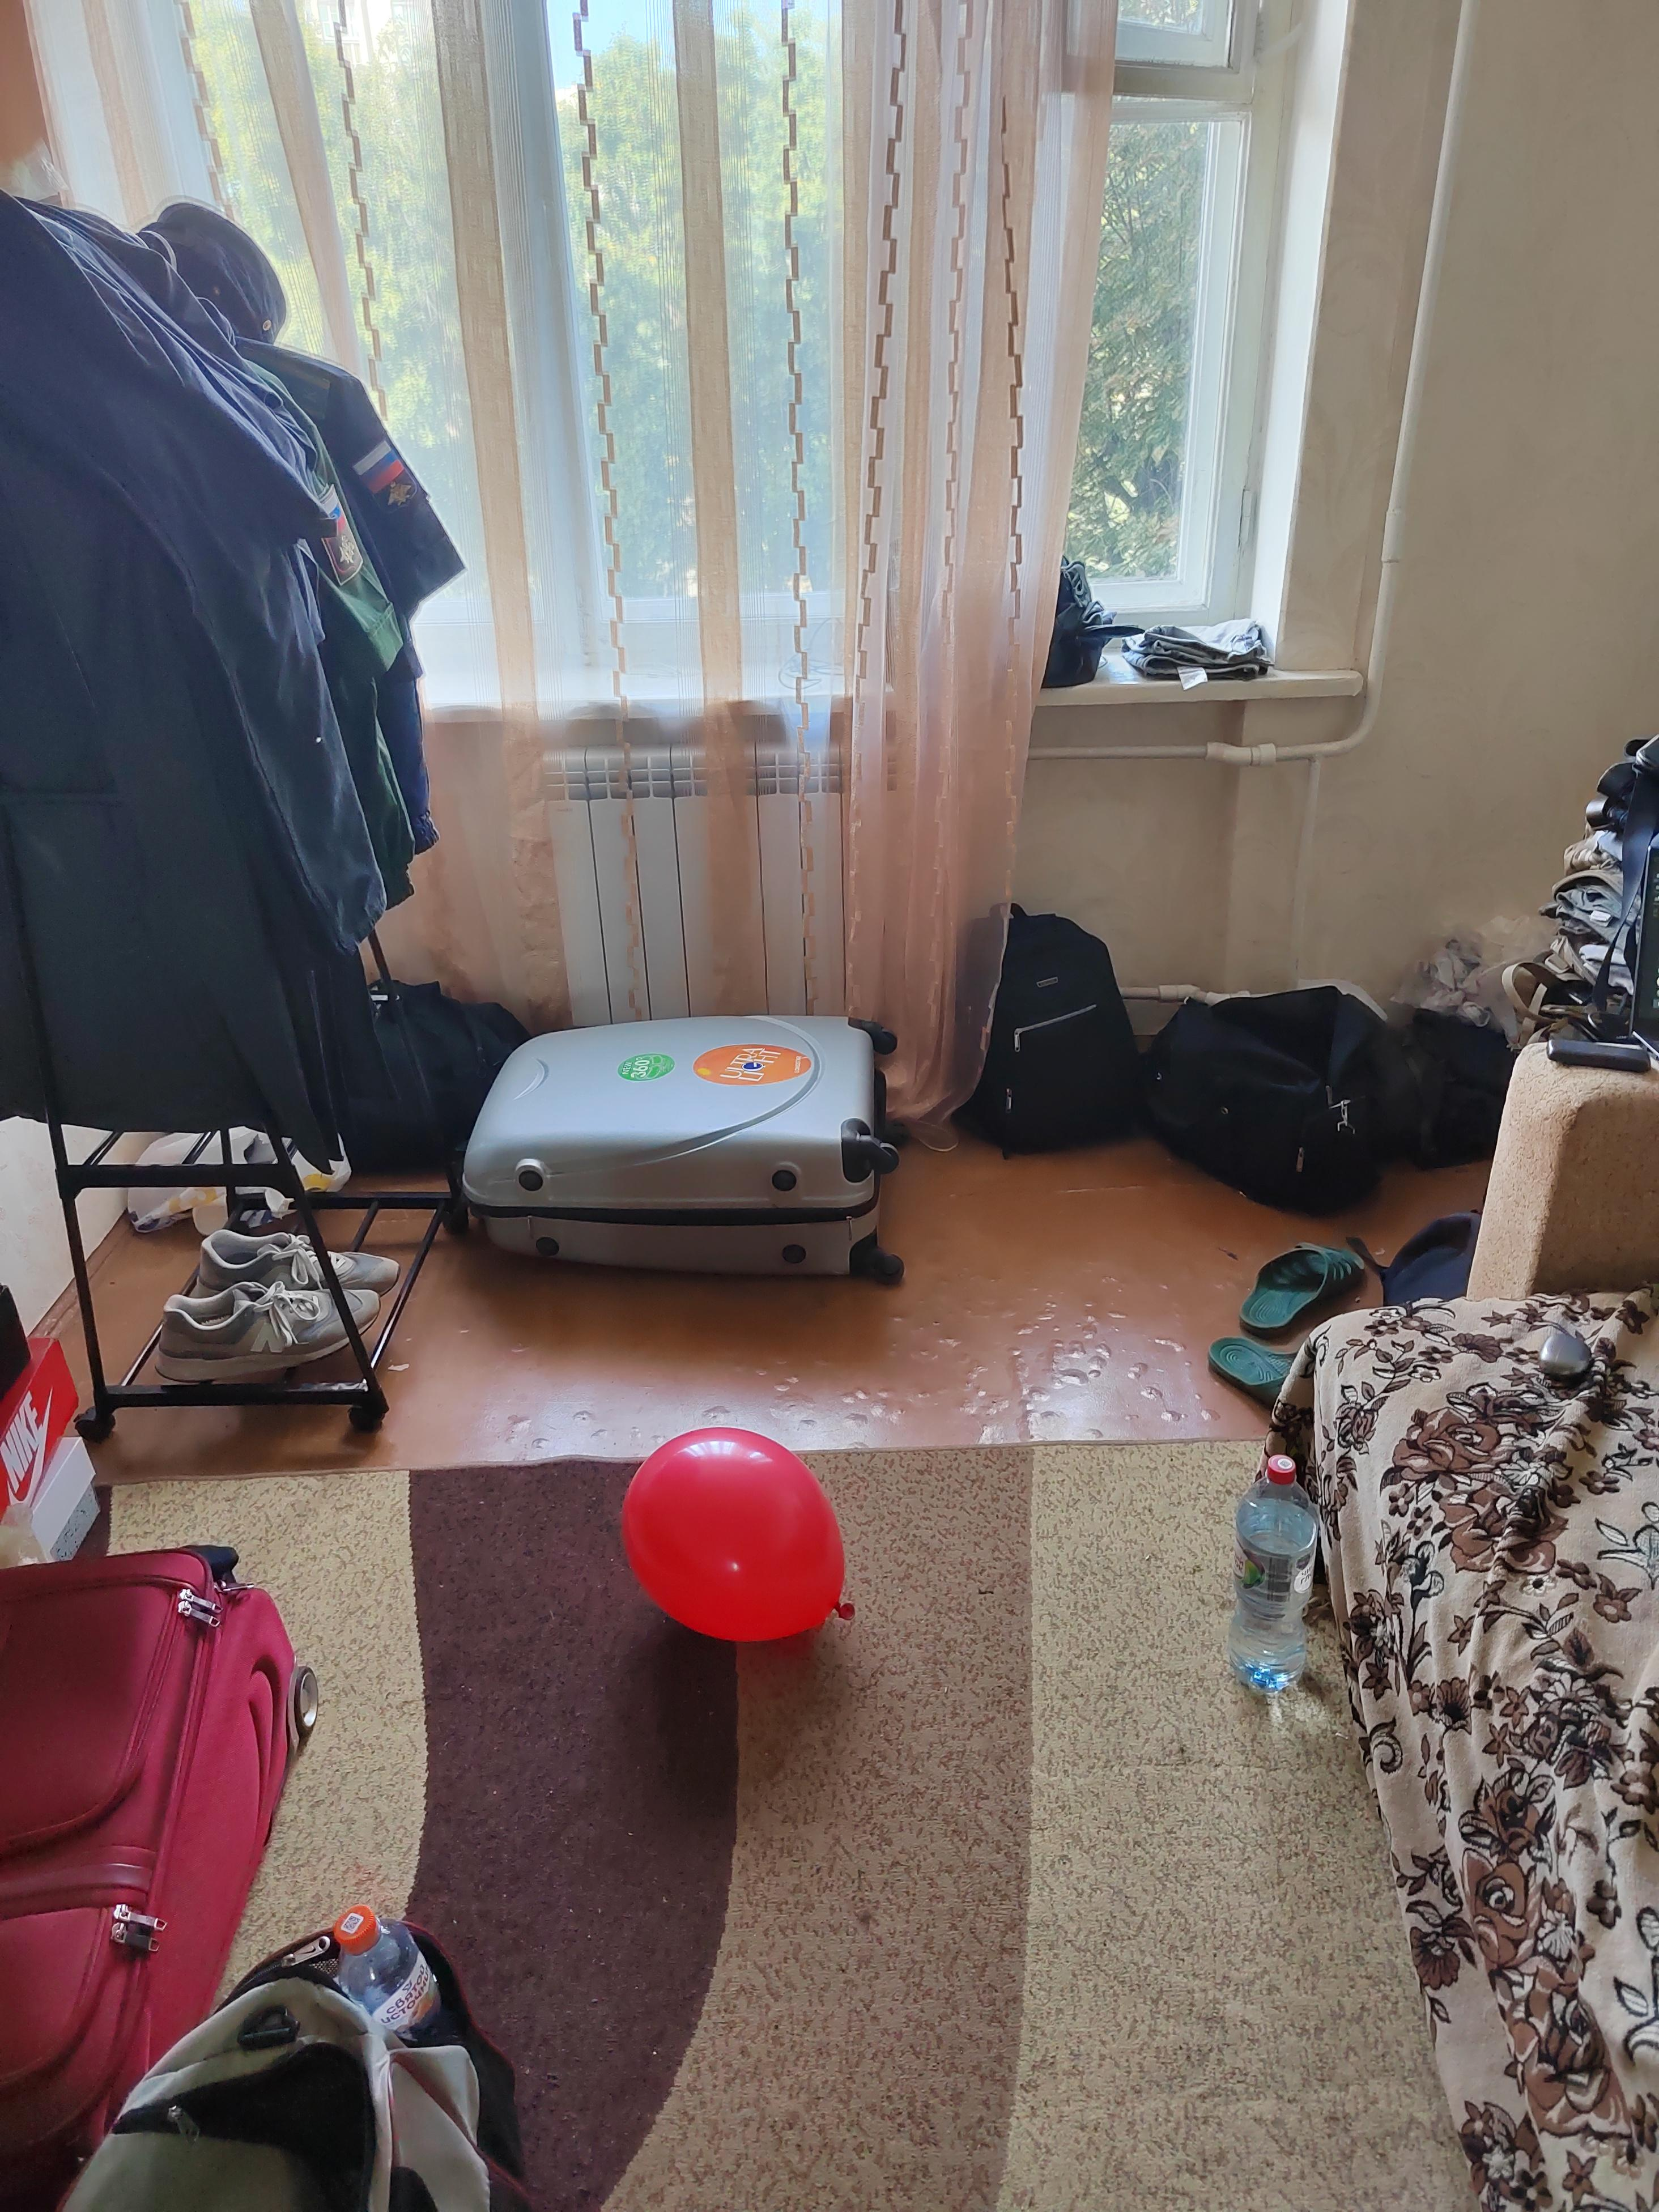red: (601, 1418, 885, 1660)
